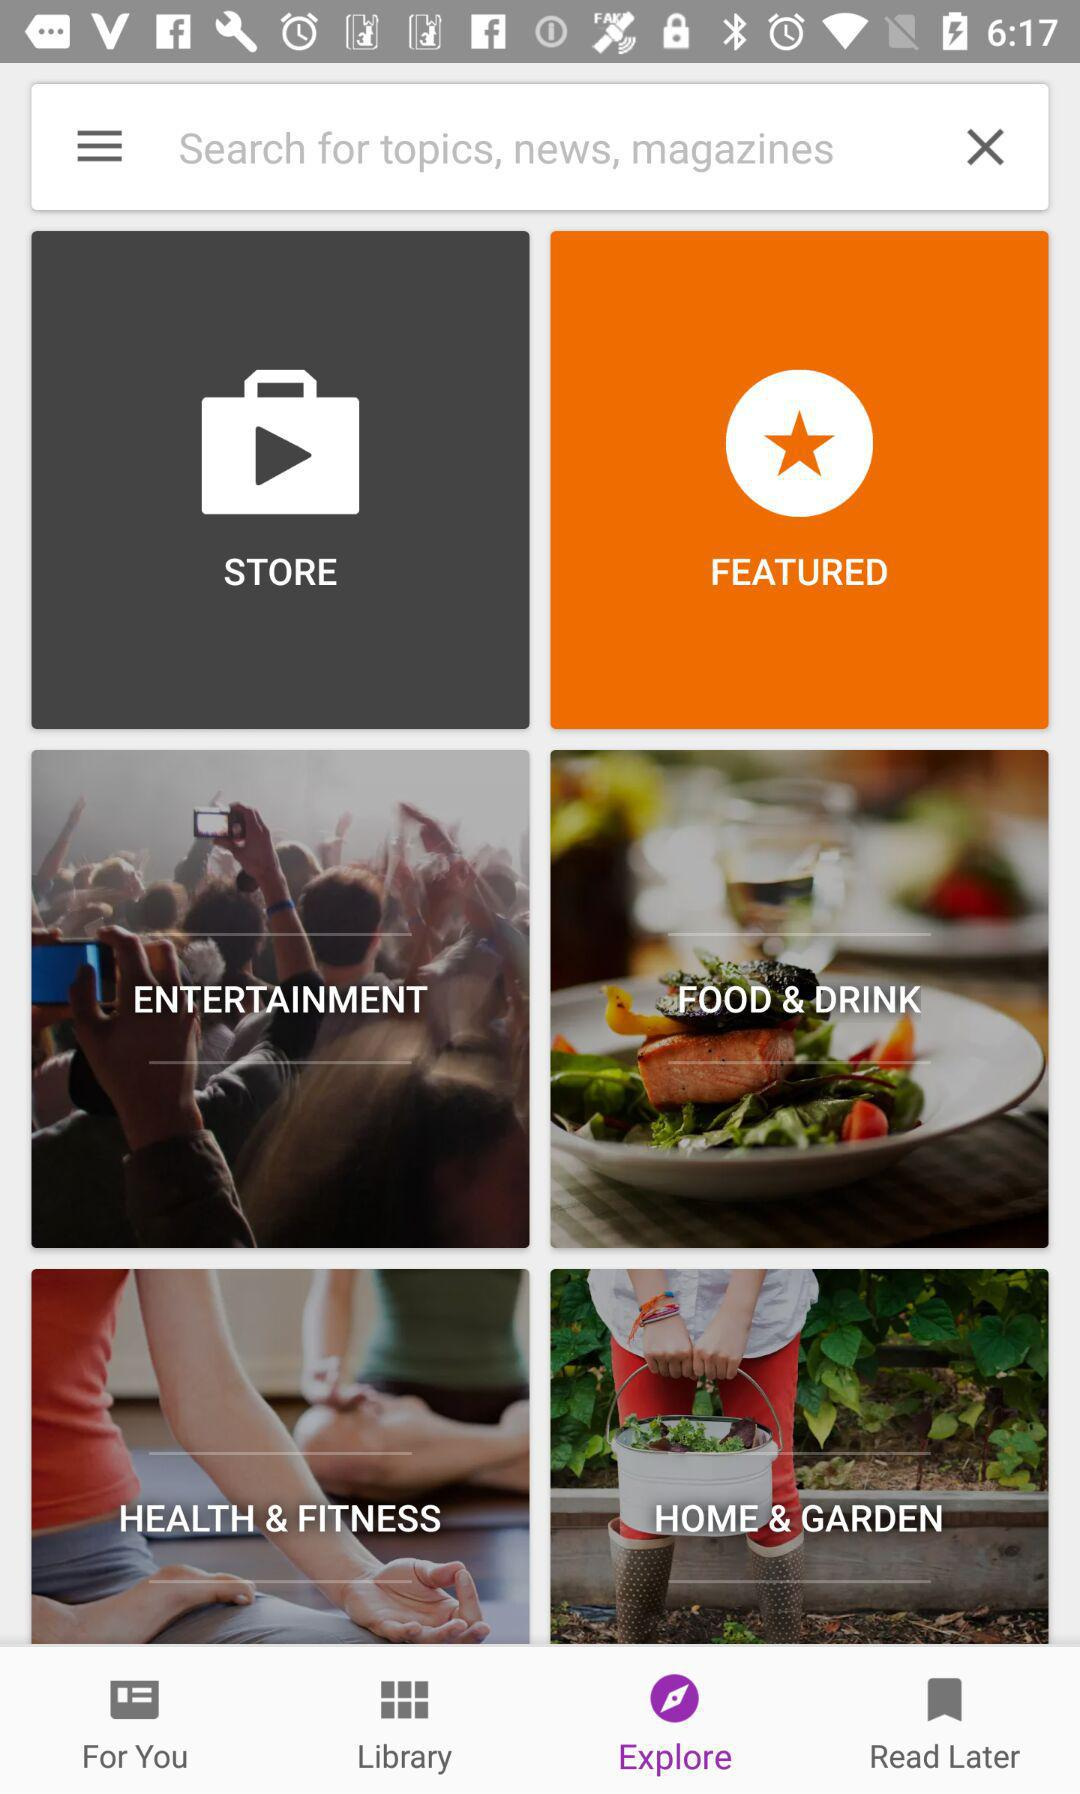EditText: (29, 83, 1051, 211)
Icon: (201, 370, 361, 516), (725, 370, 874, 519), (650, 1674, 700, 1724), (110, 1679, 160, 1720), (380, 1680, 430, 1720), (928, 1677, 963, 1724), (77, 129, 123, 163), (966, 128, 1004, 167)
Image: (550, 750, 1049, 1249), (31, 750, 530, 1249), (550, 231, 1049, 730), (32, 231, 530, 730), (550, 1269, 1049, 1645), (32, 1269, 530, 1644)
Text: (179, 131, 834, 174), (120, 1504, 442, 1534), (135, 984, 429, 1015), (655, 1503, 943, 1533), (679, 984, 922, 1015), (711, 557, 889, 588), (620, 1741, 733, 1779), (870, 1743, 1021, 1770), (224, 557, 340, 588), (357, 1741, 454, 1776), (85, 1743, 190, 1770)
UpperTaskBar: (1, 1, 1080, 64)
